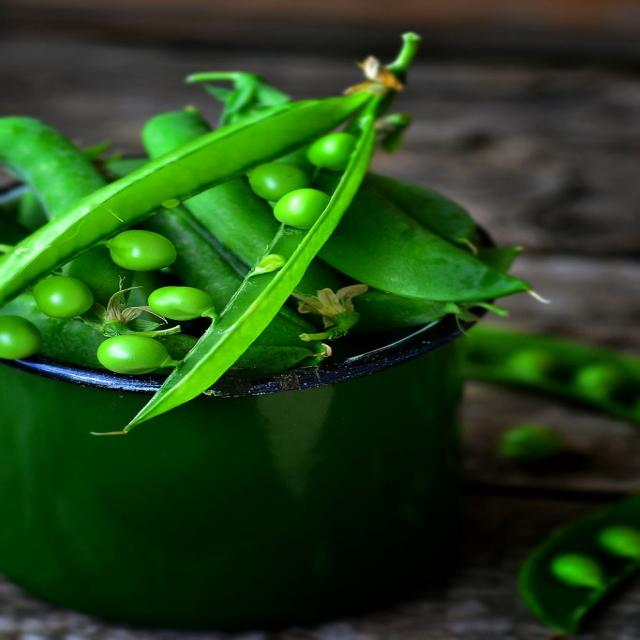Peas: (95, 332, 188, 383), (23, 276, 100, 320), (141, 283, 223, 321), (106, 232, 184, 270), (302, 128, 366, 173), (238, 162, 307, 202), (268, 190, 335, 230)
